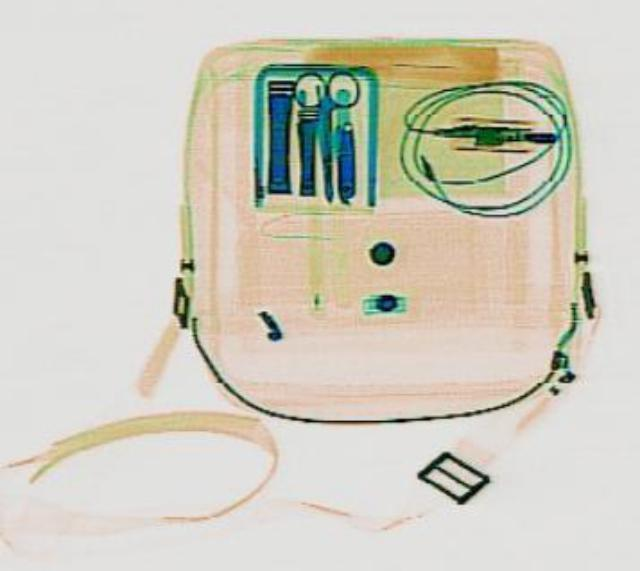Scissors: (288, 68, 359, 199)
